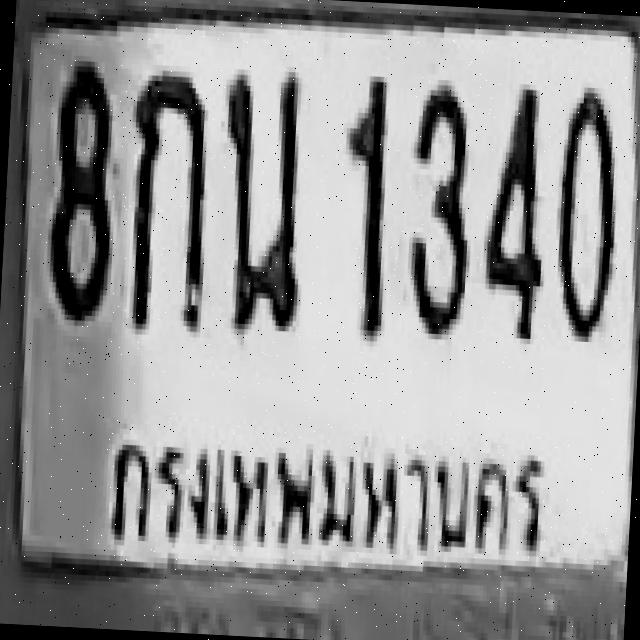0: (551, 82, 622, 344)
1: (334, 72, 392, 338)
10GorGai: (122, 67, 214, 335)
3: (402, 78, 478, 340)
34NorNu: (212, 66, 311, 335)
4: (480, 80, 550, 342)
8: (44, 58, 119, 320)
Bangkok: (97, 405, 557, 574)
